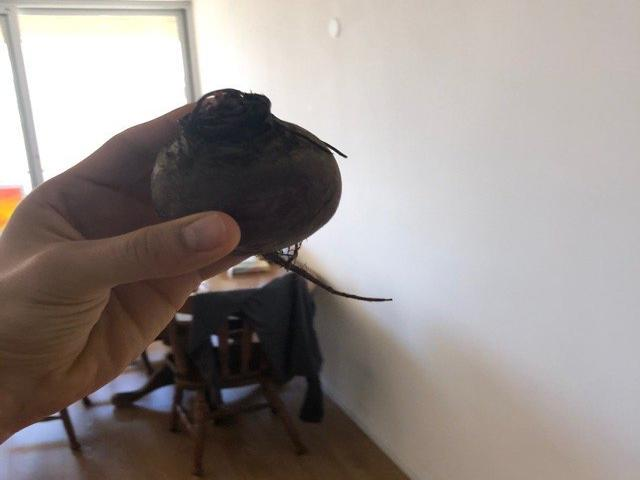beet: (151, 88, 392, 302)
